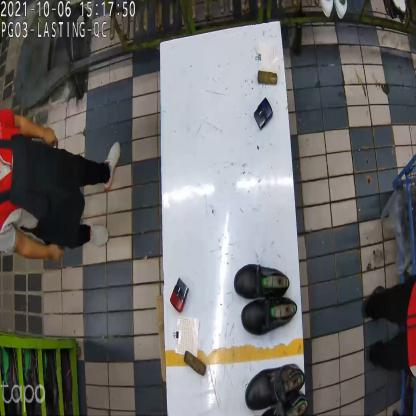shoes: (232, 264, 297, 334), (246, 368, 314, 416)
stamp: (171, 280, 191, 314), (254, 97, 274, 130)
